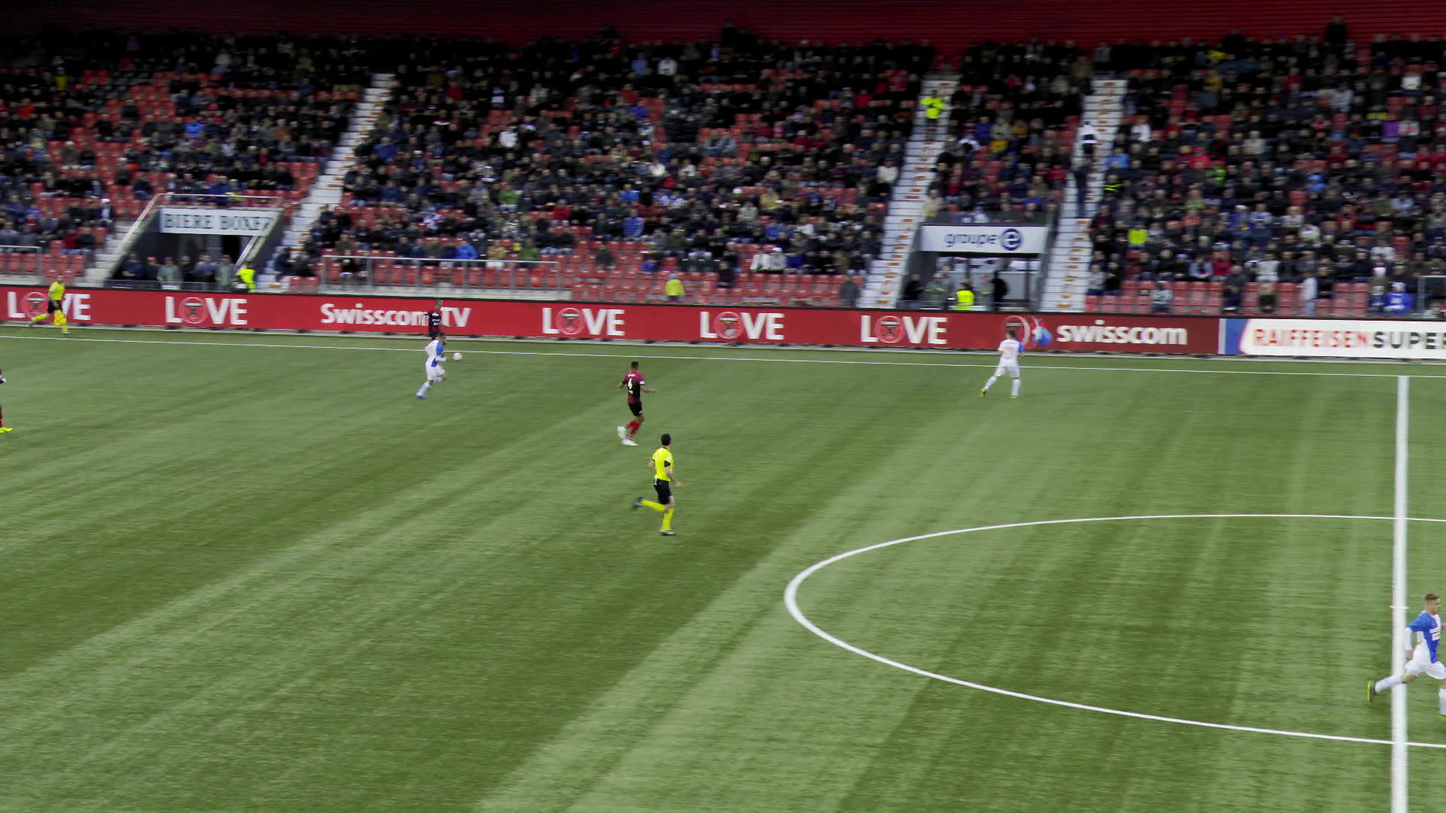ball: (459, 352, 467, 360)
player: (1370, 593, 1445, 714), (610, 361, 654, 446), (984, 330, 1030, 400), (416, 298, 453, 360), (413, 332, 446, 400), (0, 367, 11, 432)
referee: (621, 431, 687, 536), (35, 273, 76, 334)
